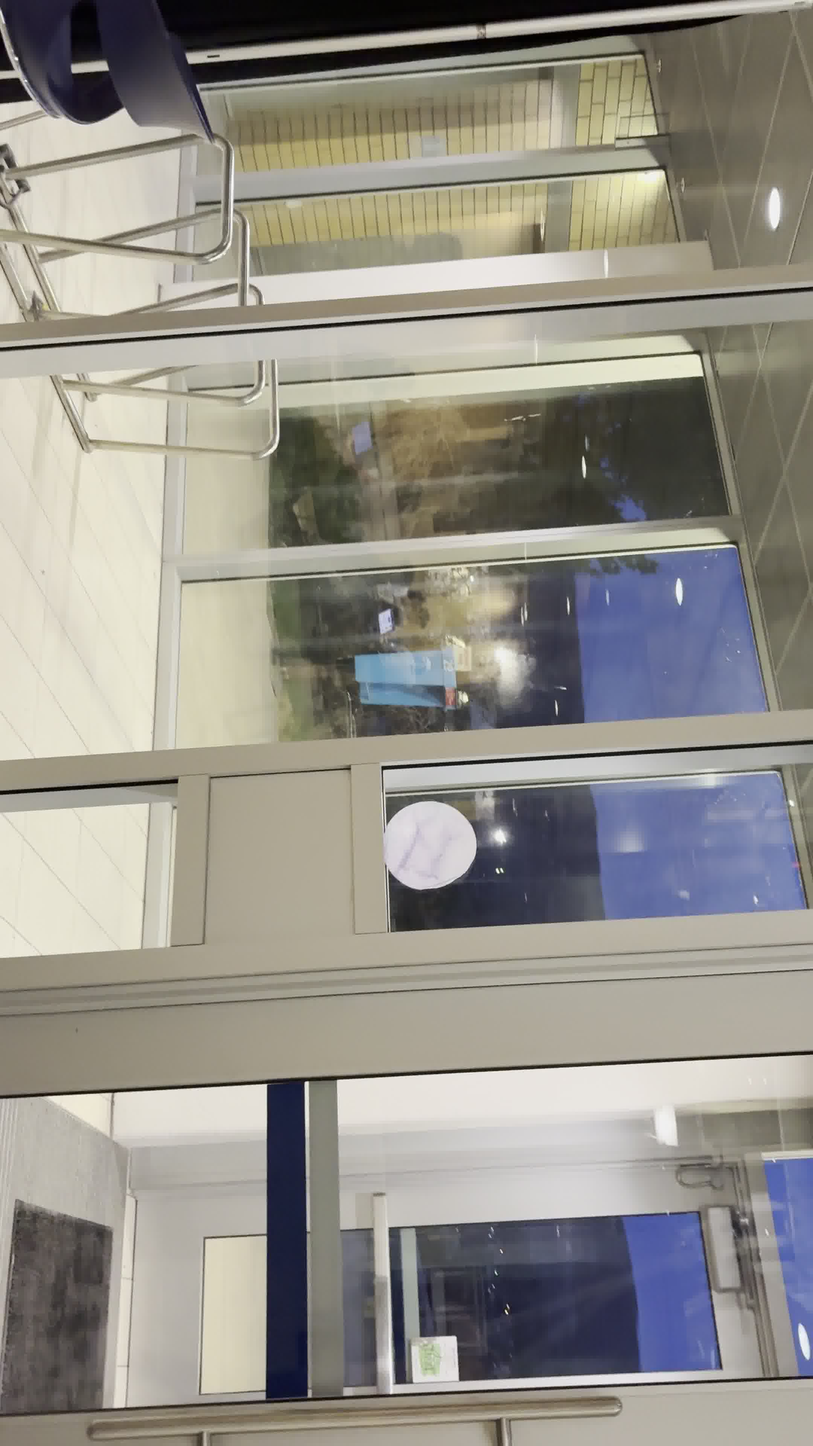Target: (382, 800, 479, 892)
